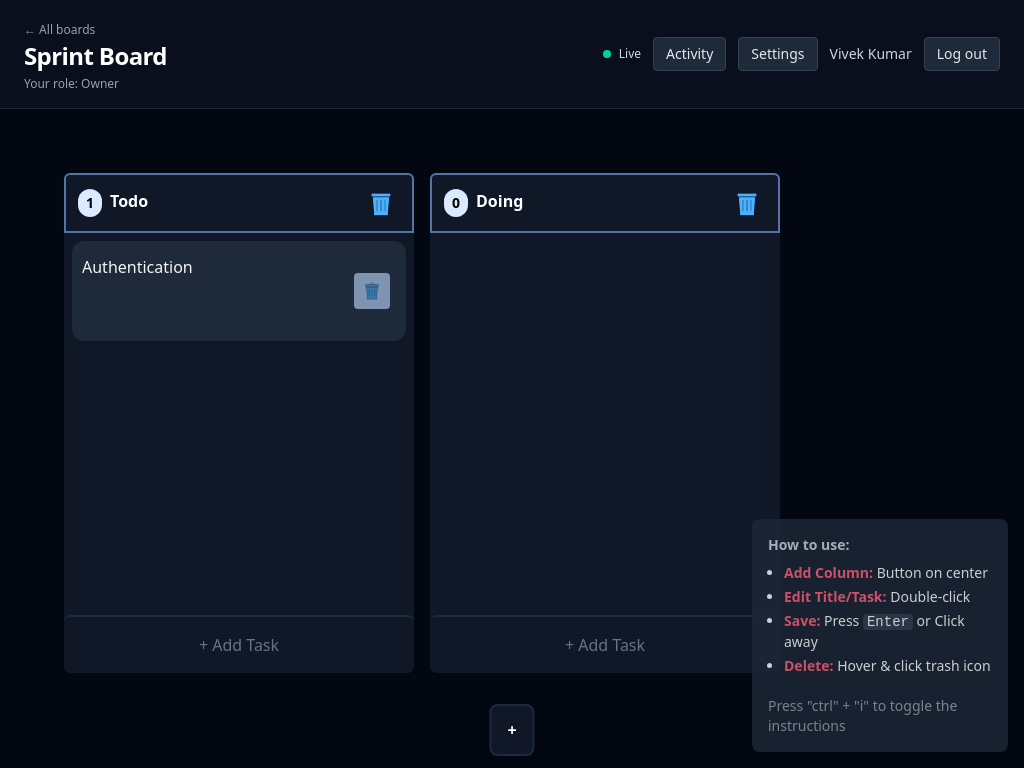
it: live activity and comments › the open board-activity drawer gets new entries on top, once
Expected: the text "Authentication" is shown, [82, 256, 193, 278]
Click the button "Activity".
click(690, 54)  # box [653, 37, 726, 71]
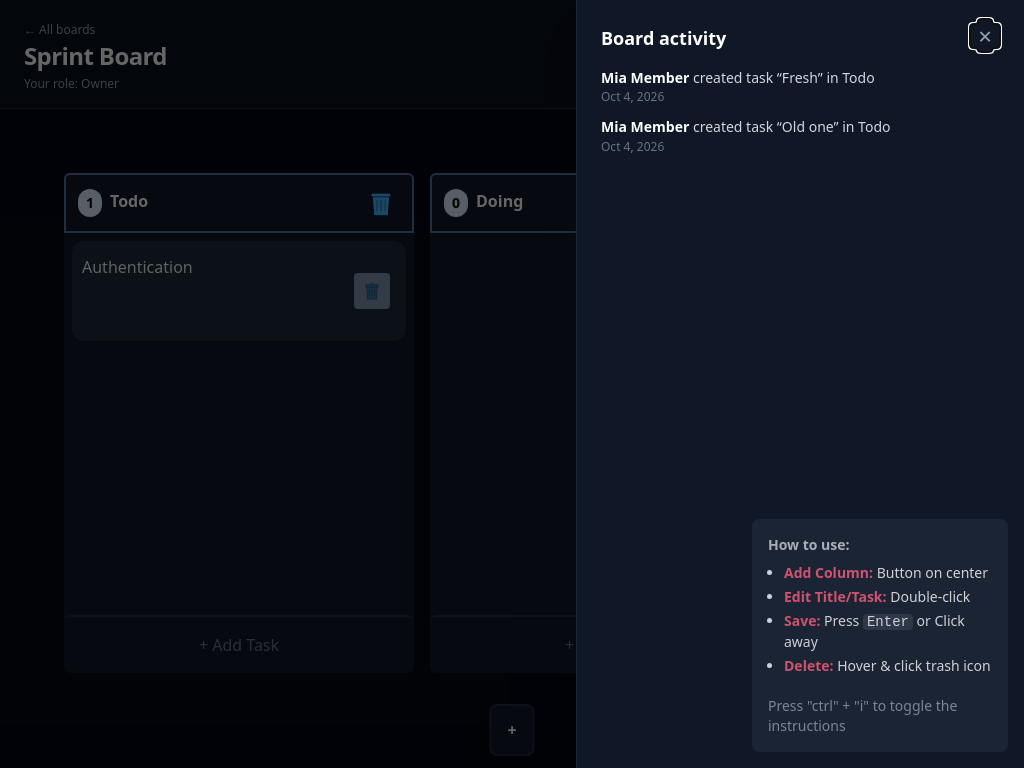
Expected: the list item "created task “Old one” in Todo" is shown, [693, 117, 890, 136]
Expected: the list item "created task “Fresh” in Todo" is shown, [693, 68, 875, 87]
Expected: the list item "Mia Member created task “Fresh” in Todo Oct 4, 2026" is shown, [601, 68, 875, 105]
